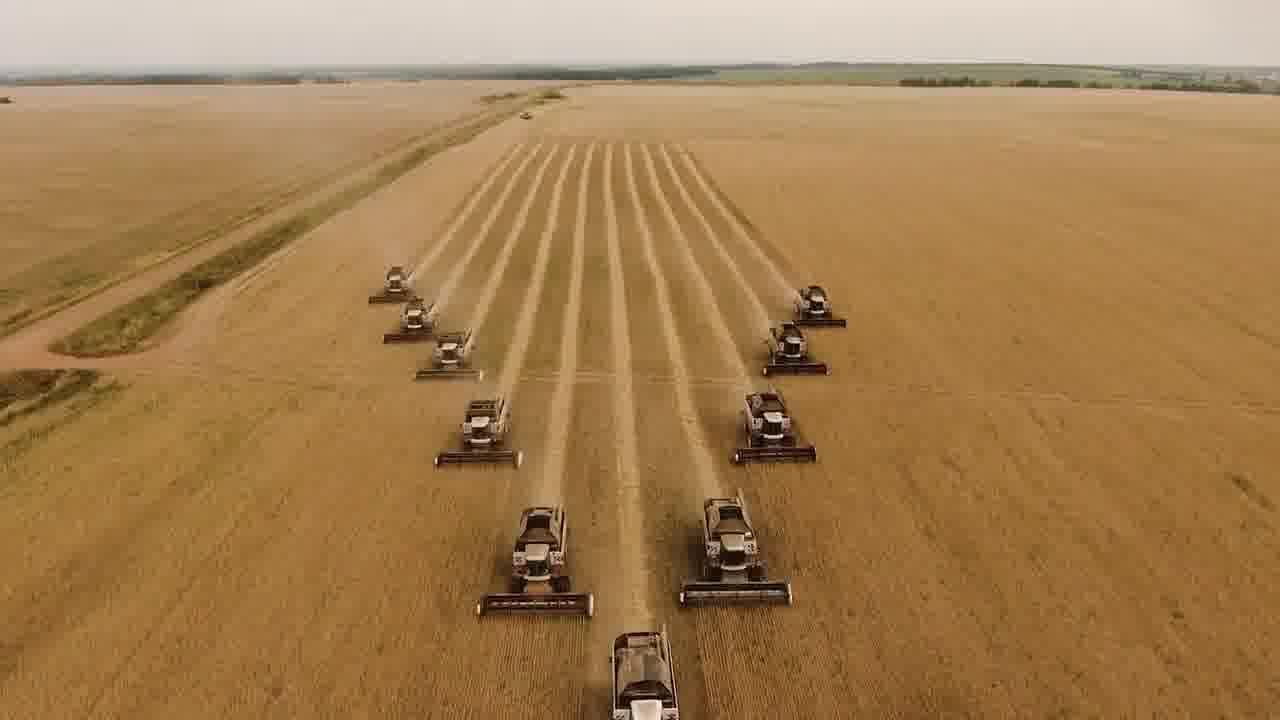combine harvester: (473, 499, 599, 624), (673, 489, 797, 612), (600, 624, 687, 720), (724, 387, 824, 469), (432, 392, 528, 476), (756, 321, 835, 384), (410, 329, 492, 386), (785, 281, 850, 332), (379, 297, 439, 342), (365, 259, 420, 305)
